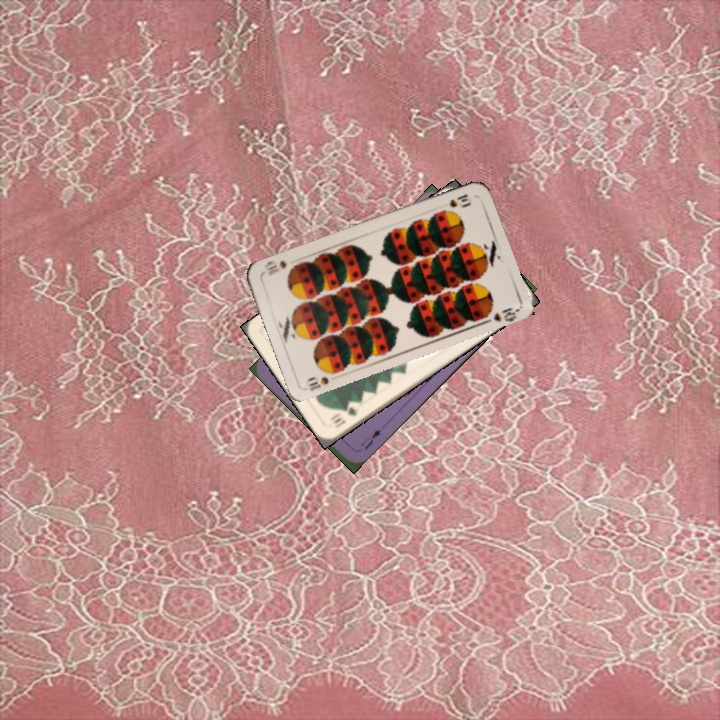EU: (356, 425, 383, 452)
G10: (329, 403, 361, 431)
S10: (304, 367, 339, 393), (445, 190, 473, 210)
